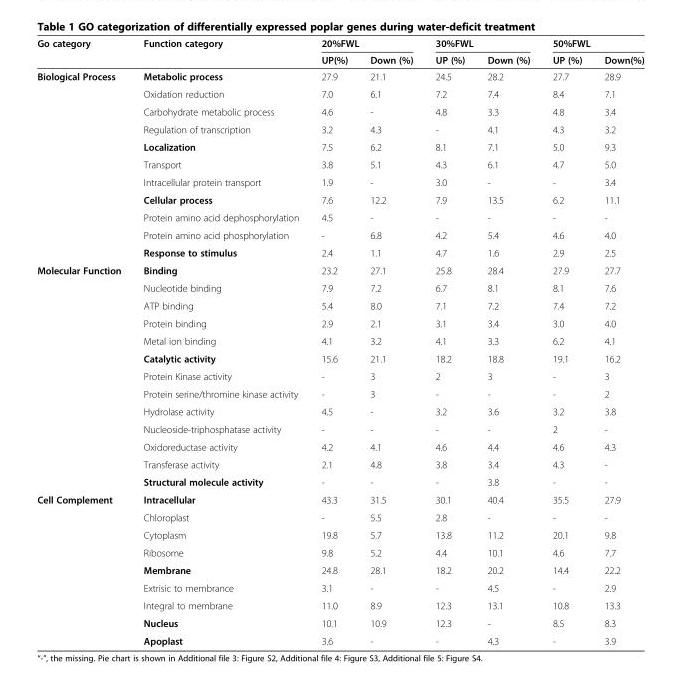table: (36, 37, 643, 646)
table column: (131, 37, 309, 646), (36, 37, 131, 646), (358, 37, 423, 646), (475, 37, 540, 646), (423, 37, 475, 646), (540, 37, 592, 646), (592, 37, 643, 646), (309, 37, 358, 646)
table column header: (36, 37, 643, 67)
table row: (36, 84, 643, 102), (36, 102, 643, 120), (36, 137, 643, 155), (36, 155, 643, 173), (36, 190, 643, 208), (36, 208, 643, 226), (36, 243, 643, 261), (36, 278, 643, 296), (36, 296, 643, 314), (36, 331, 643, 349), (36, 349, 643, 367), (36, 384, 643, 402), (36, 402, 643, 420), (36, 437, 643, 455), (36, 472, 643, 490), (36, 490, 643, 508), (36, 525, 643, 543), (36, 543, 643, 561), (36, 578, 643, 596), (36, 613, 643, 631), (36, 67, 643, 84), (36, 120, 643, 137), (36, 173, 643, 190), (36, 226, 643, 243), (36, 261, 643, 278), (36, 314, 643, 331), (36, 367, 643, 384), (36, 420, 643, 437), (36, 455, 643, 472), (36, 508, 643, 525), (36, 561, 643, 578), (36, 596, 643, 613), (36, 51, 643, 67), (36, 631, 643, 646), (36, 37, 643, 51)
table spanning cell: (36, 261, 131, 490), (36, 67, 131, 261), (36, 490, 131, 646), (131, 37, 309, 67), (36, 37, 131, 67), (423, 37, 540, 51), (309, 37, 423, 51), (540, 37, 643, 51)
